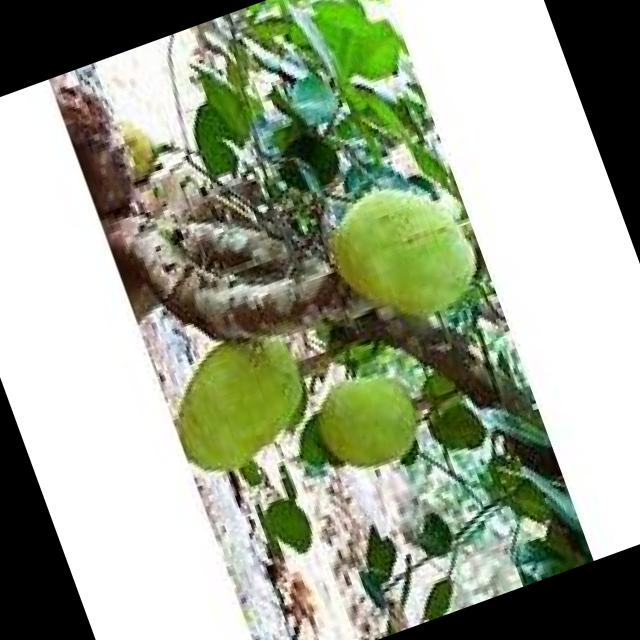Fruit: (288, 144, 504, 372), (148, 308, 345, 508), (281, 340, 454, 506)
